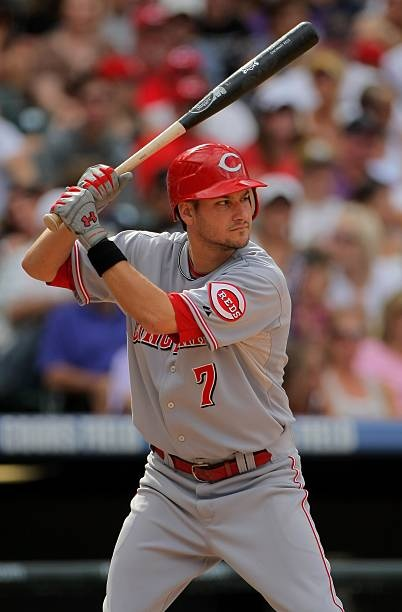bita: (60, 19, 318, 213)
